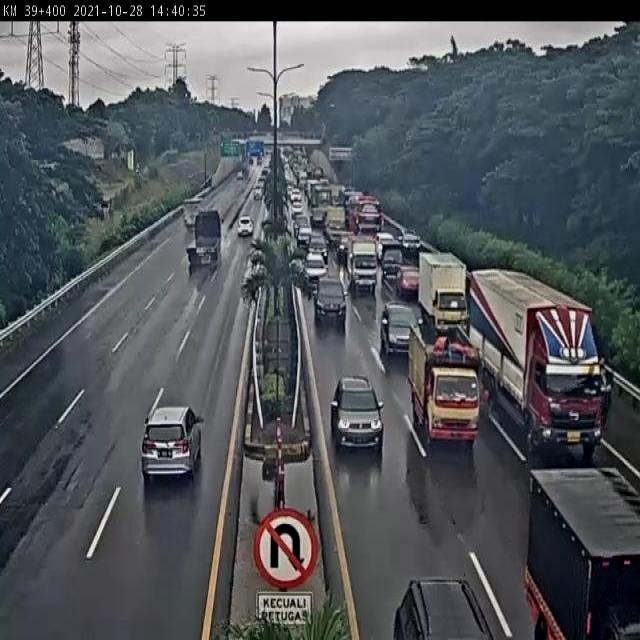Car: (322, 359, 396, 475), (391, 575, 500, 637), (141, 403, 203, 480), (379, 300, 421, 359), (313, 278, 348, 330), (303, 252, 328, 289), (307, 232, 328, 264), (400, 230, 421, 257), (296, 225, 312, 249)
Truck: (466, 270, 608, 464), (522, 466, 637, 640), (407, 323, 484, 452), (252, 445, 317, 530), (418, 252, 469, 338), (251, 424, 311, 478), (187, 210, 222, 274), (348, 237, 379, 296), (347, 129, 368, 186), (331, 145, 357, 189), (378, 240, 404, 282), (394, 264, 420, 300), (323, 205, 348, 242), (310, 182, 334, 218), (356, 202, 382, 234), (346, 193, 366, 230), (289, 258, 309, 294), (374, 231, 396, 262), (332, 230, 353, 261), (242, 262, 261, 295), (262, 450, 280, 484), (327, 184, 346, 210), (304, 178, 322, 205), (289, 245, 307, 272), (342, 188, 362, 210), (416, 244, 434, 268), (356, 194, 380, 211), (292, 146, 307, 172), (236, 216, 254, 237), (158, 148, 181, 164), (276, 130, 307, 141), (182, 210, 198, 230), (282, 197, 292, 229), (316, 179, 330, 201), (339, 272, 350, 300), (252, 262, 267, 282), (186, 246, 198, 270), (282, 147, 294, 170), (184, 195, 203, 209), (264, 152, 274, 173), (257, 172, 267, 193), (398, 229, 412, 244), (262, 166, 273, 185), (254, 335, 262, 361), (290, 188, 302, 205), (291, 199, 303, 216), (40, 161, 60, 171), (323, 225, 332, 247), (292, 219, 301, 239), (94, 202, 105, 218), (127, 150, 135, 172), (101, 200, 110, 219), (299, 170, 308, 187), (286, 186, 296, 201), (312, 168, 324, 180), (264, 144, 275, 157), (201, 177, 212, 190), (254, 137, 264, 149), (248, 171, 256, 186), (376, 242, 382, 261), (243, 142, 250, 158), (254, 188, 262, 200), (236, 171, 244, 181), (244, 154, 250, 166), (417, 317, 424, 327), (135, 164, 141, 175), (256, 155, 262, 165), (220, 213, 224, 224), (250, 157, 254, 166)
